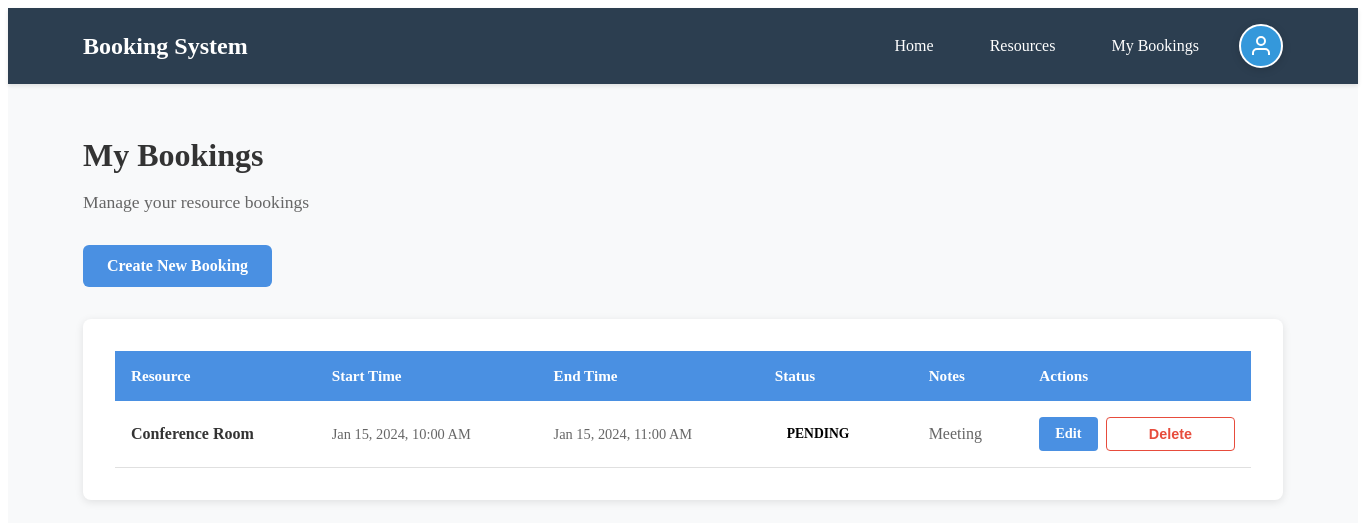
Scenario: BookingsPage › Delete Booking Functionality › removes booking from list after successful deletion
Expected: the text "Conference Room" is shown, [115,401,316,468]
Click the button with aria-label "delete booking for conference room" at [1170, 434], box [1106,417,1235,451]
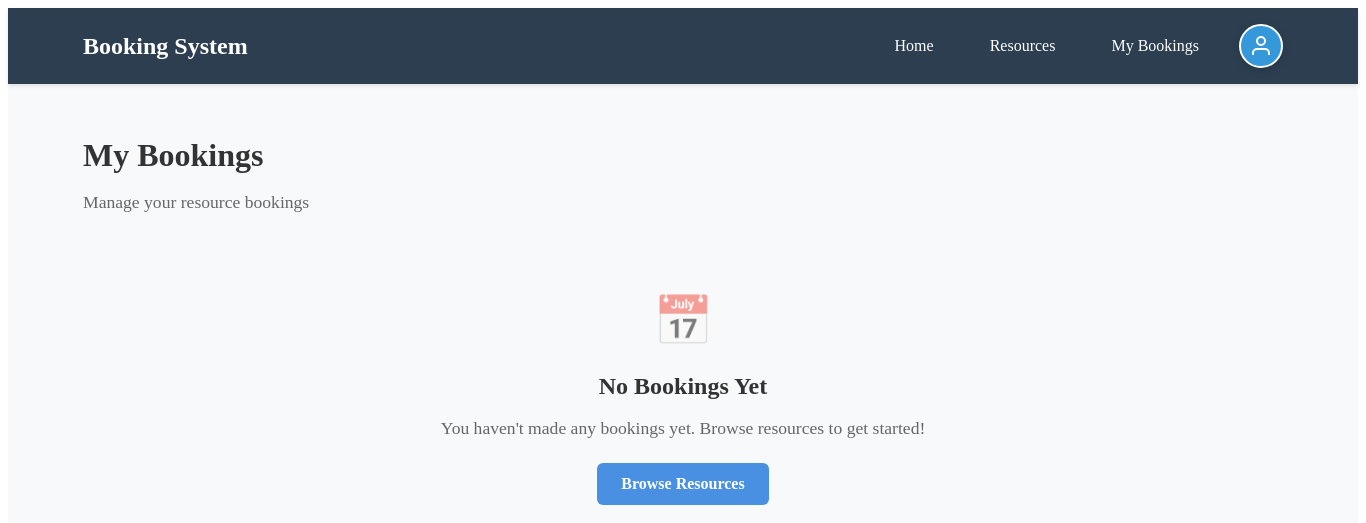
Now the text "Conference Room" is gone
